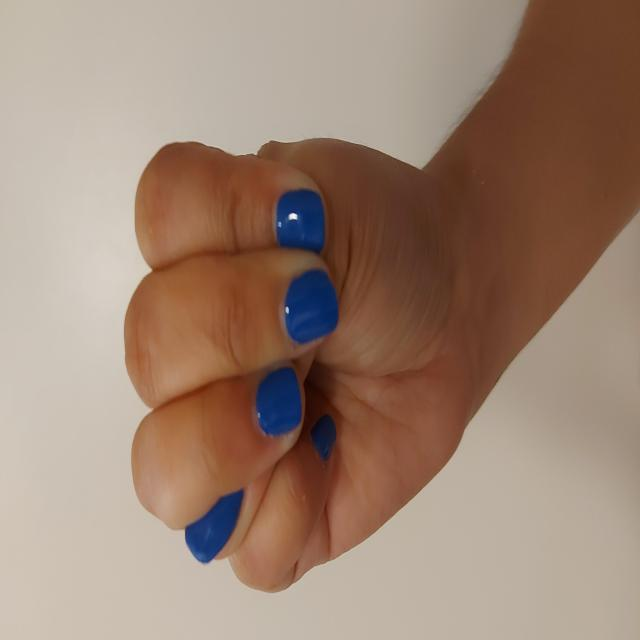M: (44, 122, 506, 470)
